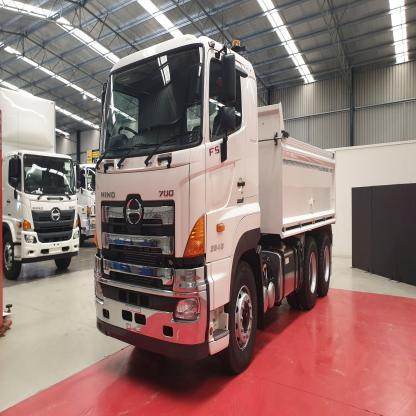dump_truck: (93, 32, 343, 379), (3, 98, 78, 289)
